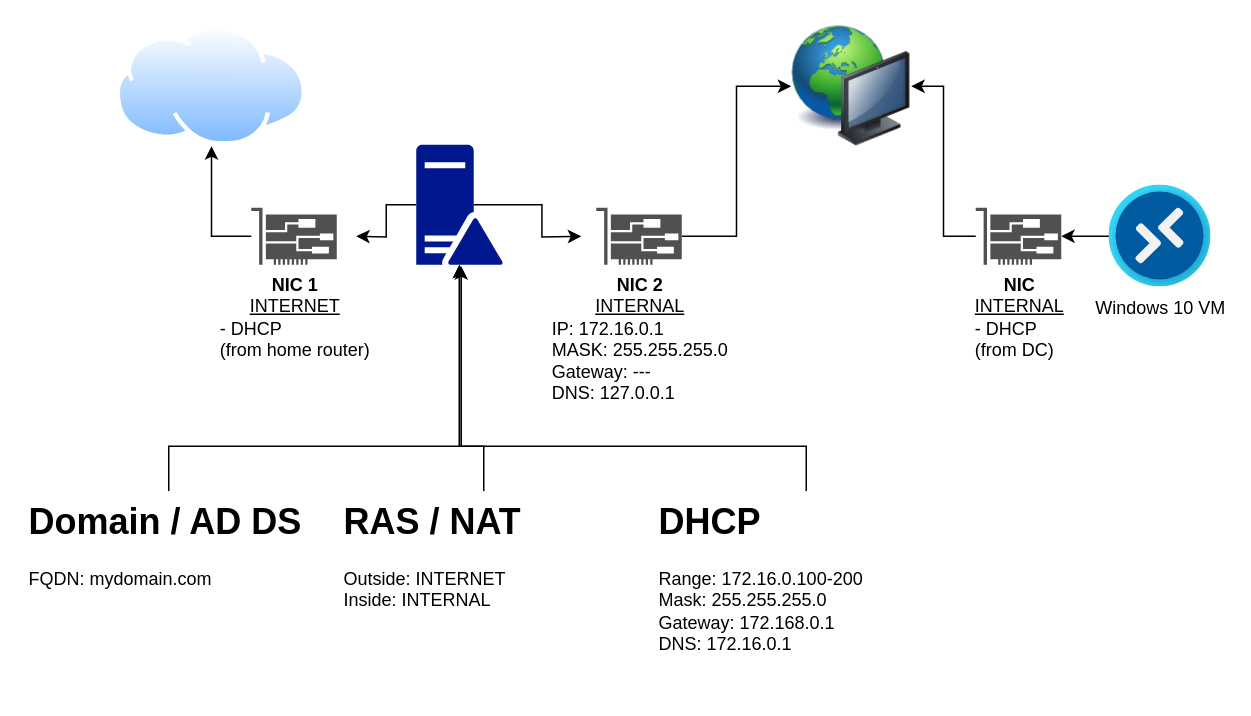
The diagram is 1251 pixels wide and 716 high, and some of its shapes have lost their labels. The shapes that lost their labels are listed below. From the top down, each one's centre as x and y in pixels, then its label:
At (x=211, y=86): "INTERNET".
At (x=850, y=86): "VMWare Network".
At (x=459, y=204): "Domain Controller (Server 2019)".
